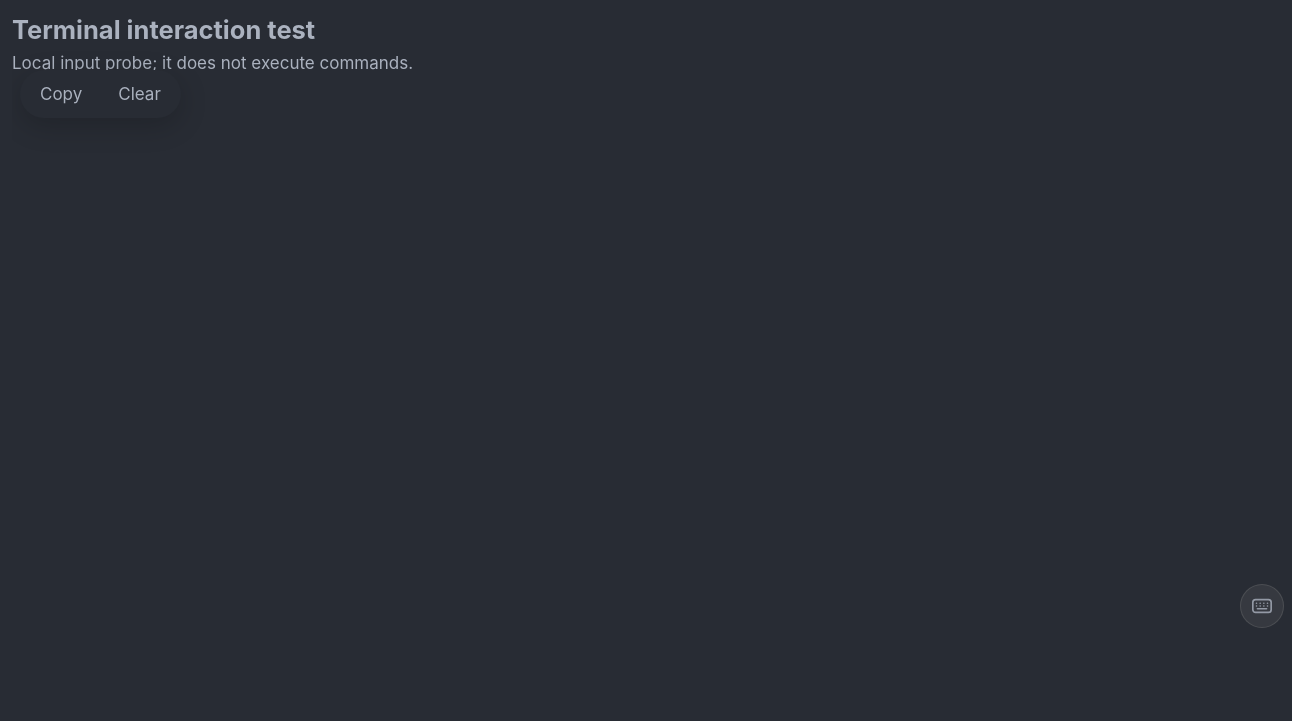
Test: MobileTerminal input accessory › keeps selection available after a failed copy, and clears it only after success
Click the button "Copy".
click(61, 94)  # box [22,72,100,116]
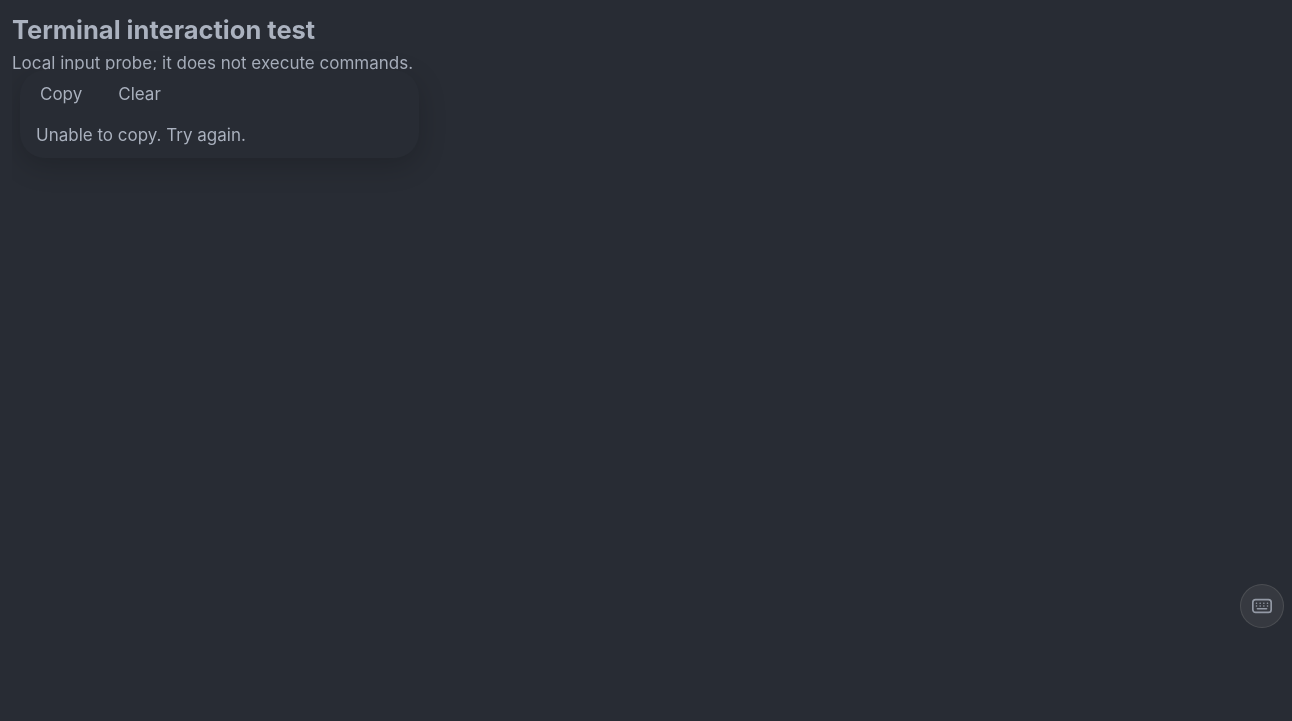
Check: the message "Unable to copy. Try again." is shown, box [36,125,246,145]
Click the button "Copy".
click(61, 94)  # box [22,72,100,116]
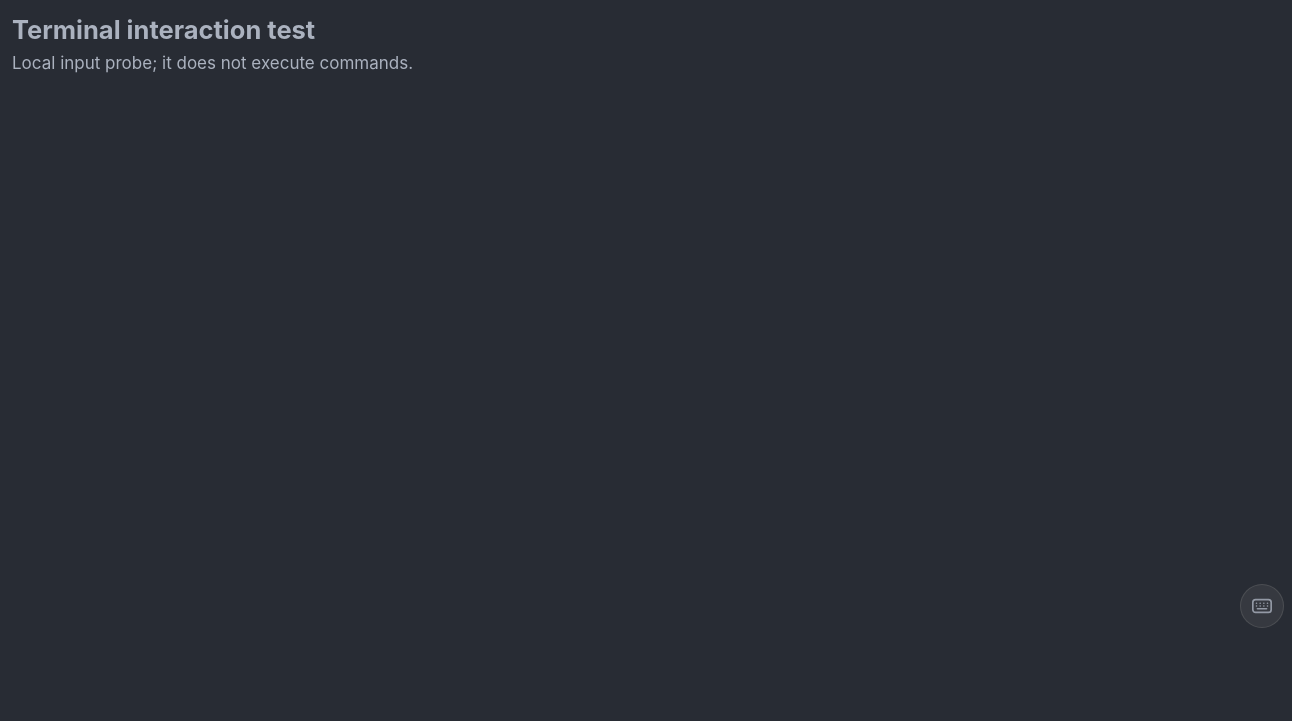
Check: the button "Copy" is gone
